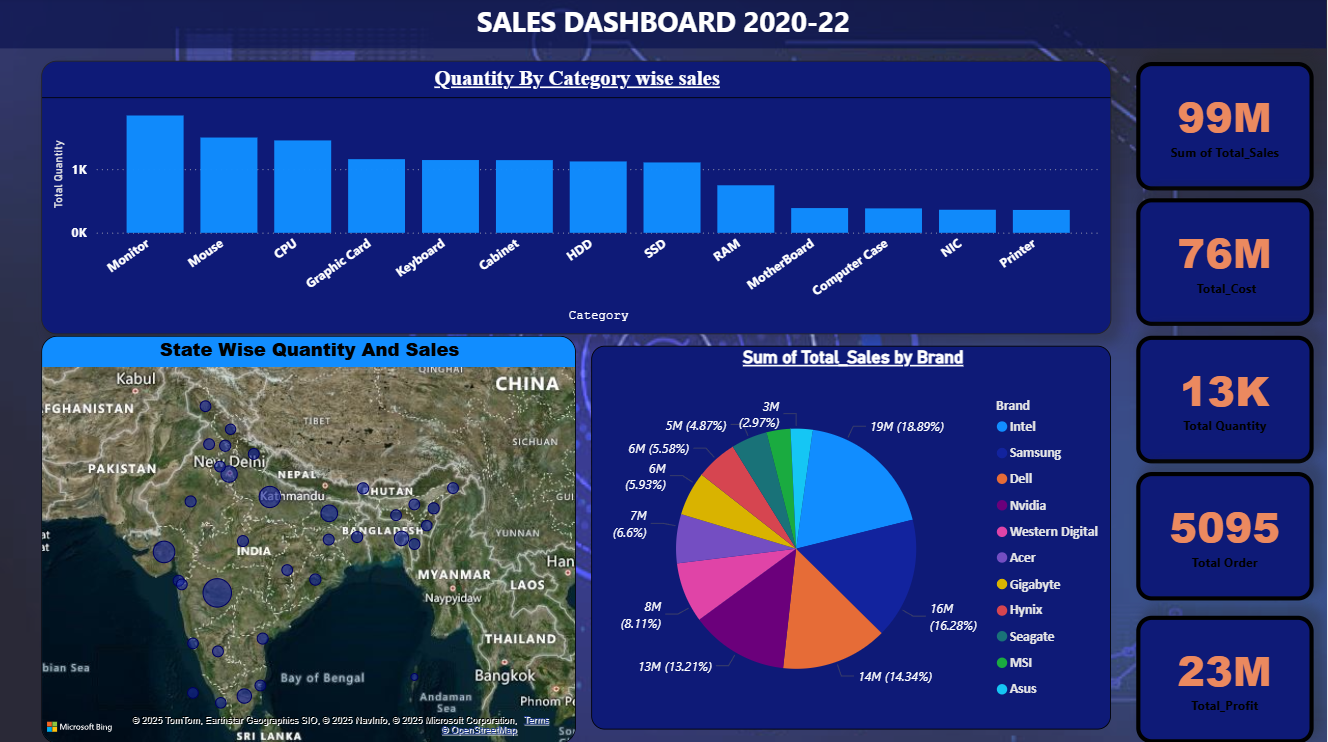

The dashboard page shown, as its layout file describes it:
{"tool":"powerbi","page":{"name":"Page 1","canvas":[1280,720],"ordinal":0},"visuals":[{"type":"textbox","box":[0,0,1280.3,49.4],"z":0},{"type":"card","fields":{"Values":["Sum(Sales_Data.Total_Sales)"]},"box":[1096.7,62.7,171.3,124.3],"z":1000},{"type":"card","fields":{"Values":["Sum(Sales_Data.Total_Cost)"]},"box":[1096.7,194.2,171.3,123.1],"z":2000},{"type":"card","fields":{"Values":["Sum(Sales_Data.Quantity)"]},"box":[1096.7,326.9,171.3,123.1],"z":3000},{"type":"card","fields":{"Values":["CountNonNull(Sales_Data.Order_Number)"]},"box":[1096.7,458.4,171.3,124.3],"z":4000},{"type":"card","fields":{"Values":["Sales_Data.Total_Profit"]},"box":[1096.7,597.2,171.3,123.1],"z":5000},{"type":"clusteredColumnChart","title":"Quantity By Category wise sales","fields":{"Y":["Sum(Sales_Data.Quantity)"],"Category":["Sales_Data.Category"]},"box":[39.8,61.5,1032.7,264.2],"z":6000},{"type":"pieChart","fields":{"Category":["Sales_Data.Brand"],"Y":["Sum(Sales_Data.Total_Sales)"]},"box":[570.6,336.6,501.9,370.4],"z":7000},{"type":"map","title":"State Wise Quantity And Sales","fields":{"Category":["State_list.State"],"Size":["Sum(Sales_Data.Sales)"]},"box":[39.8,326.9,516.4,393.3],"z":8000}]}

Visuals, with their boxes in screenshot pixels (x1, y1, x2, y2), scaled from the page's 1280x720 canvas onto the 1328x742 screenshot:
textbox: 0,0,1327,51
card - Sum(Sales_Data.Total_Sales): 1138,65,1316,193
card - Sum(Sales_Data.Total_Cost): 1138,200,1316,327
card - Sum(Sales_Data.Quantity): 1138,337,1316,464
card - CountNonNull(Sales_Data.Order_Number): 1138,472,1316,601
card - Sales_Data.Total_Profit: 1138,615,1316,741
"Quantity By Category wise sales" clusteredColumnChart: 41,63,1113,336
pieChart - Sales_Data.Brand x Sum(Sales_Data.Total_Sales): 592,347,1113,729
"State Wise Quantity And Sales" map: 41,337,577,741
